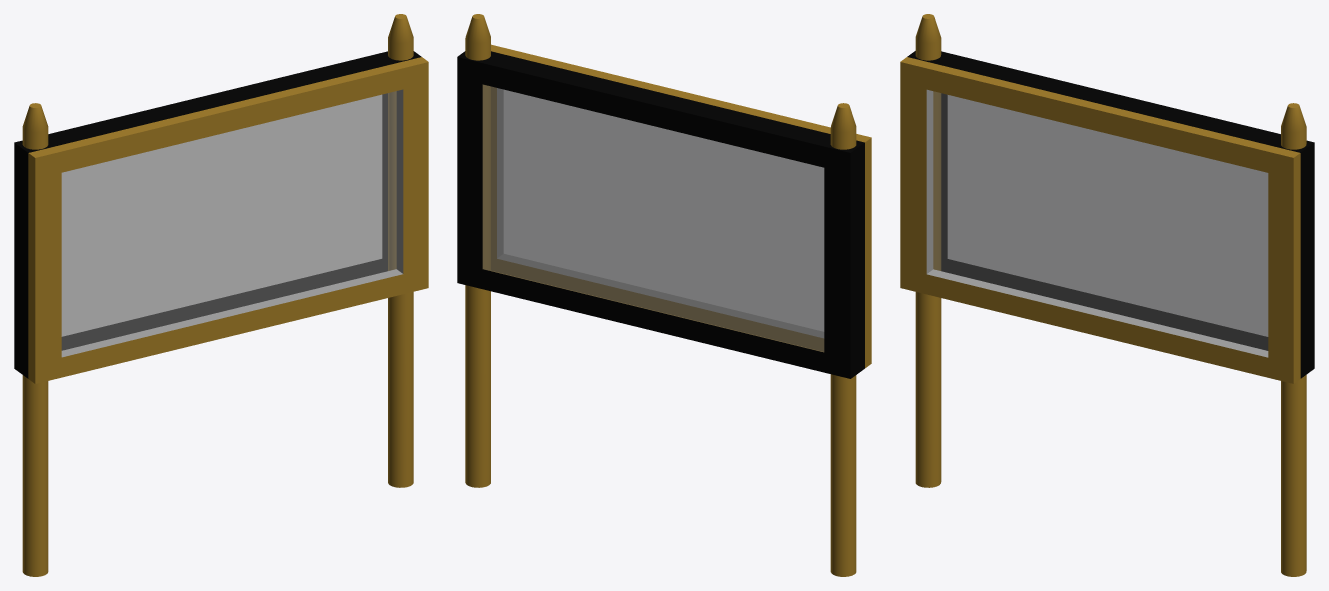
File: board.fbx
3 renders of one model, left to right at view 1: azimuth 30°, elevation 25°; view 2: azimuth 150°, elevation 25°; view 3: azimuth 330°, elevation 25°, orthographic.
Parts seen in each view (by area): view 1: polySurface4; view 2: polySurface4; view 3: polySurface4.
Boxes of the visible parts, left/top/right/bottom form: polySurface4: left=14, top=14, right=428, bottom=576; polySurface4: left=457, top=14, right=871, bottom=576; polySurface4: left=900, top=14, right=1314, bottom=576.
Bounding box in the file's own units: 10.32 × 11.67 × 0.9593.
